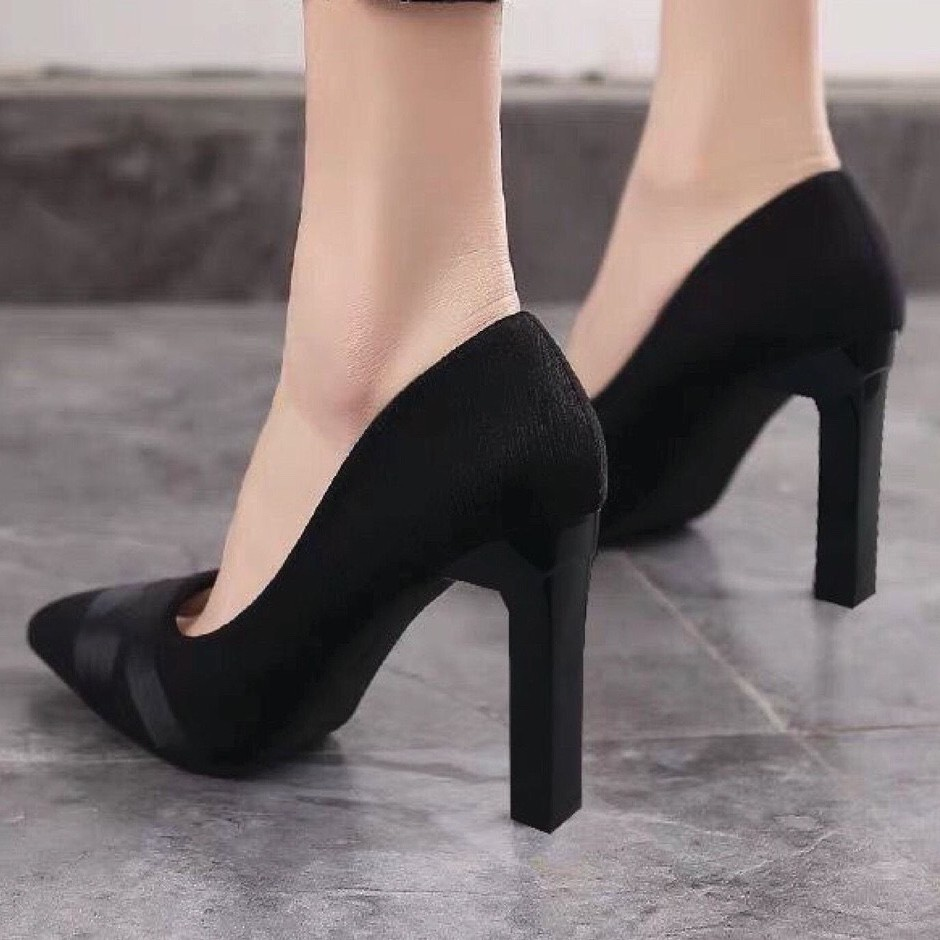high heels: (24, 310, 611, 836), (568, 170, 905, 610)
